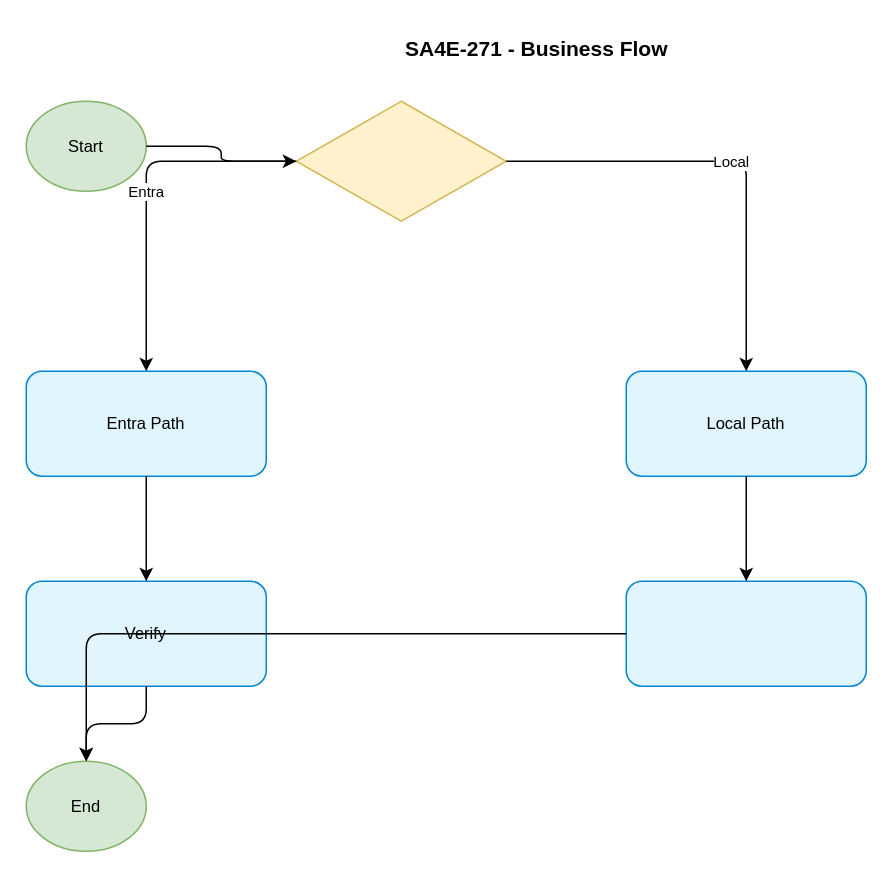
The diagram is 893 pixels wide and 878 high, and some of its shapes have lost their labels. Each missing label, with the centre of its shape:
Response: point 745,633
Token Type?: point 400,160
